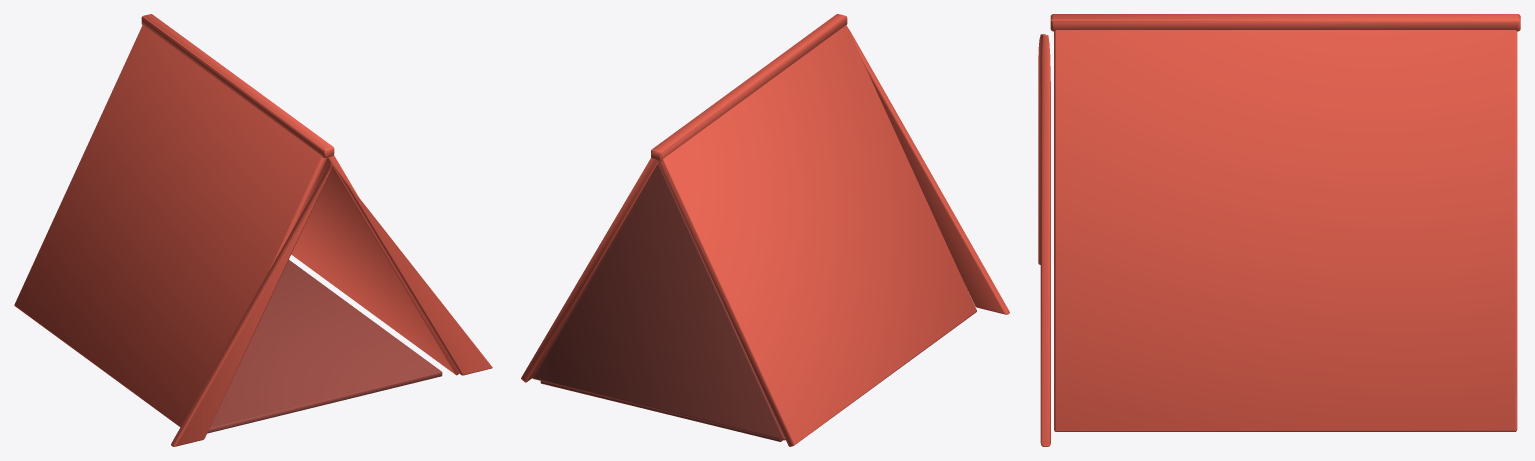
Rendered from cadir-kirmizi.glb.
3 views of the same model, side by side, from view 1: azimuth 30°, elevation 25°; view 2: azimuth 150°, elevation 25°; view 3: azimuth 270°, elevation 25° (orthographic). The views are drawn at different scales.
Parts seen in each view (by area): view 1: 67P_CADIR_KIRMIZI_01_BODY, 67P_CADIR_KIRMIZI_01_INTERIOR; view 2: 67P_CADIR_KIRMIZI_01_BODY, 67P_CADIR_KIRMIZI_01_INTERIOR; view 3: 67P_CADIR_KIRMIZI_01_BODY.
Part boxes in pixels (x1=…): 67P_CADIR_KIRMIZI_01_BODY: x1=14, y1=14, x2=492, y2=446; 67P_CADIR_KIRMIZI_01_INTERIOR: x1=207, y1=260, x2=442, y2=433; 67P_CADIR_KIRMIZI_01_BODY: x1=521, y1=14, x2=1009, y2=446; 67P_CADIR_KIRMIZI_01_INTERIOR: x1=532, y1=163, x2=785, y2=441; 67P_CADIR_KIRMIZI_01_BODY: x1=1038, y1=14, x2=1520, y2=446.
Bounding box in the file's own units: 3.29 × 2.55 × 3.34.
